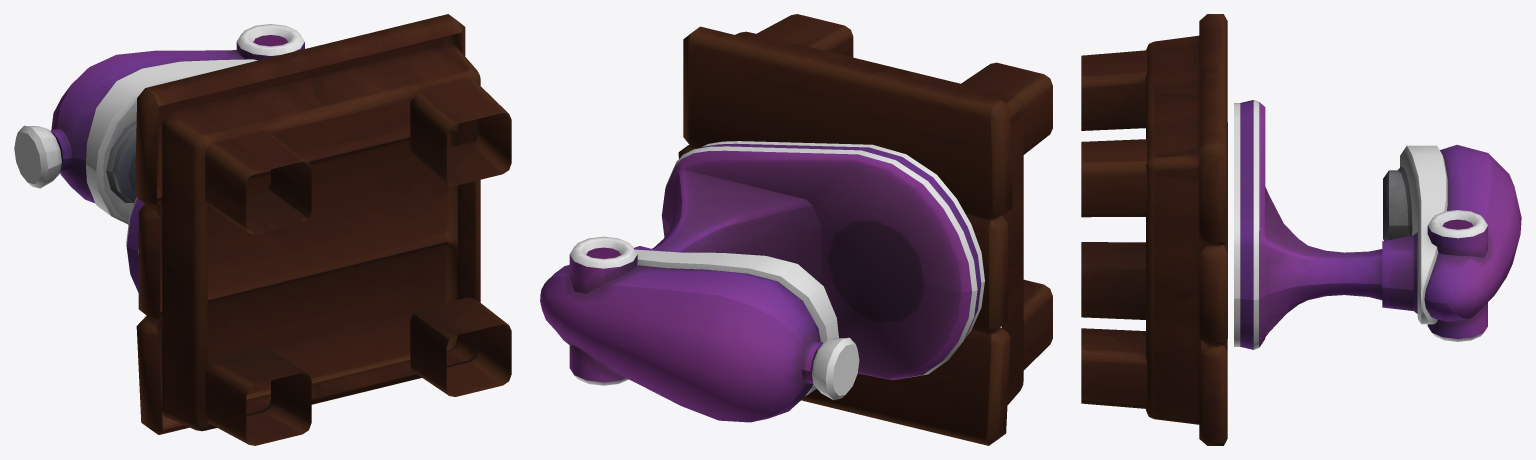
Rendered from CounterMixer_Winter.fbx.
3 renders of one model, left to right at view 1: azimuth 30°, elevation 25°; view 2: azimuth 150°, elevation 25°; view 3: azimuth 270°, elevation 25°, orthographic. The views are drawn at different scales.
Parts seen in each view (by area): view 1: m_wizard_countertop_05, m_cakemixer_01_Body; view 2: m_cakemixer_01_Body, m_wizard_countertop_05; view 3: m_wizard_countertop_05, m_cakemixer_01_Body.
Boxes of the visible parts, left/top/right/bottom form: m_wizard_countertop_05: left=135, top=14, right=511, bottom=445; m_cakemixer_01_Body: left=14, top=24, right=304, bottom=292; m_cakemixer_01_Body: left=540, top=141, right=984, bottom=422; m_wizard_countertop_05: left=678, top=14, right=1052, bottom=445; m_wizard_countertop_05: left=1081, top=14, right=1227, bottom=445; m_cakemixer_01_Body: left=1234, top=100, right=1521, bottom=349.
Size of the model in its own units: 1.26 by 1.63 by 1.23.
